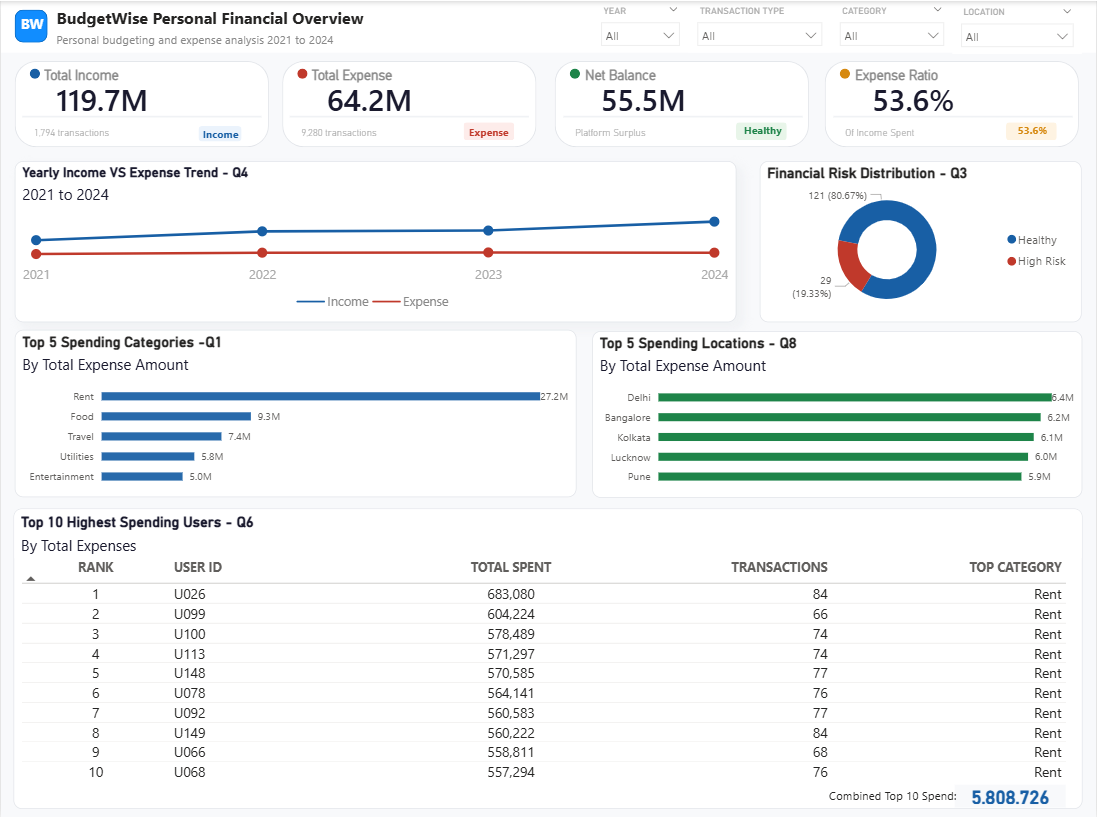

The dashboard page shown, as its layout file describes it:
{"tool":"powerbi","page":{"name":"BudgetWise Finance Analysis","canvas":[1270,950],"ordinal":0},"visuals":[{"type":"shape","box":[0,0,1439,60],"z":0,"group":"g6"},{"type":"lineChart","title":"Yearly Income VS Expense Trend - Q4","fields":{"Category":["public budgetwise_finance.year"],"Y":["public budgetwise_finance.Yearly Income","public budgetwise_finance.Yearly Expense"]},"box":[15.7,185.4,837.2,186.9],"z":0},{"type":"textbox","box":[60,2,388,37],"z":1000,"group":"g6"},{"type":"shape","box":[16,10,38,38],"z":1000,"group":"g7"},{"type":"shape","box":[16,69,295,100],"z":1000,"group":"g2"},{"type":"shape","box":[326,69,295,100],"z":1000,"group":"g3"},{"type":"shape","box":[956,69,295,100],"z":1000,"group":"g5"},{"type":"shape","box":[642,70,295,100],"z":1000,"group":"g4"},{"type":"donutChart","title":"Financial Risk Distribution - Q3","fields":{"Category":["Q3_Financial_Risk.financial_status"],"Y":["CountNonNull(Q3_Financial_Risk.user_id)"]},"box":[881.2,185.4,373.8,186.9],"z":1000},{"type":"textbox","box":[16,10,40,39],"z":2000,"group":"g7"},{"type":"textbox","box":[60,31,353,29],"z":2000,"group":"g6"},{"type":"clusteredBarChart","title":"Top 5 Spending Categories -Q1","fields":{"Category":["public budgetwise_finance.category"],"Y":["Sum(public budgetwise_finance.amount)"]},"box":[15.7,381.7,651.9,194.8],"z":2000},{"type":"slicer","title":"Year Slicer","fields":{"Values":["public budgetwise_finance.year"]},"box":[686.4,0,111.5,59.7],"z":3000,"group":"g6"},{"type":"card","title":"Total Income","fields":{"Values":["Q2_Income_vs_Expense.Total Income"]},"box":[45,75,145,59],"z":3000,"group":"g2"},{"type":"card","title":"Total Expense","fields":{"Values":["Q2_Income_vs_Expense.Total Expense"]},"box":[355,75,145,59],"z":3000,"group":"g3"},{"type":"card","title":"Expense Ratio","fields":{"Values":["Q2_Income_vs_Expense.Expense Ratio"]},"box":[986,75,145,59],"z":3000,"group":"g5"},{"type":"card","title":"Net Balance","fields":{"Values":["Q2_Income_vs_Expense.Net Balance"]},"box":[672,76,145,59],"z":3000,"group":"g4"},{"type":"clusteredBarChart","title":"Top 5 Spending Locations - Q8","fields":{"Category":["public budgetwise_finance.location"],"Y":["Sum(public budgetwise_finance.amount)"]},"box":[686.4,383.3,568.6,193.2],"z":3000},{"type":"slicer","title":"Type Slicer","fields":{"Values":["public budgetwise_finance.transaction_type"]},"box":[798,0,164.9,59.7],"z":4000,"group":"g6"},{"type":"group","id":"g1","title":"Group 2","box":[14.1,589,1240.9,362.1],"z":4000},{"type":"slicer","title":"Location Slicer","fields":{"Values":["public budgetwise_finance.location"]},"box":[1104.3,1.6,150.8,59.7],"z":5000,"group":"g6"},{"type":"group","id":"g2","title":"Group 3","box":[16,69,295,102],"z":5000},{"type":"shape","box":[24.6,128.8,277.8,10.3],"z":5000,"group":"g2"},{"type":"shape","box":[334.6,128.8,277.8,10.3],"z":5000,"group":"g3"},{"type":"shape","box":[965.6,128.8,277.8,10.3],"z":5000,"group":"g5"},{"type":"shape","box":[651.6,129.8,277.8,10.3],"z":5000,"group":"g4"},{"type":"group","id":"g3","title":"Group 3","box":[326,69,295,100],"z":6000},{"type":"group","id":"g4","title":"Group 3","box":[642,70,295,100],"z":7000},{"type":"textbox","box":[33.2,137.4,133,28.2],"z":7000,"group":"g2"},{"type":"textbox","box":[343.2,137.4,133,28.2],"z":7000,"group":"g3"},{"type":"textbox","box":[974.2,137.4,133,28.2],"z":7000,"group":"g5"},{"type":"textbox","box":[660.2,138.4,133,28.2],"z":7000,"group":"g4"},{"type":"group","id":"g5","title":"Group 3","box":[956,69,295,100],"z":8000},{"type":"group","id":"g6","title":"Group 4","box":[0,0,1439,61.3],"z":9000},{"type":"slicer","fields":{"Values":["public budgetwise_finance.category"]},"box":[962.9,0,141.4,61.3],"z":12000,"group":"g6"},{"type":"group","id":"g7","title":"Group 1","box":[16,10,40,39],"z":13000,"group":"g6"},{"type":"tableEx","title":"Top 10 Highest Spending Users - Q6","fields":{"Values":["public budgetwise_finance.Top 10 Rank","public budgetwise_finance.user_id","public budgetwise_finance.Total Spent Per User","public budgetwise_finance.Total Transactions","public budgetwise_finance.Top Category"]},"box":[14.1,589,1240.9,348.7],"z":17000,"group":"g1"},{"type":"card","fields":{"Values":["public budgetwise_finance.Top 10 Combined Total"]},"box":[1107.1,909.4,128.8,26.7],"z":18000,"group":"g1"},{"type":"textbox","box":[955.9,891.1,166.1,59.9],"z":18500,"group":"g1"},{"type":"shape","box":[33,77,12,12],"z":20000,"group":"g2"},{"type":"shape","box":[343,77,12,12],"z":20000,"group":"g3"},{"type":"shape","box":[974,77,12,12],"z":20000,"group":"g5"},{"type":"shape","box":[660,78,12,12],"z":20000,"group":"g4"},{"type":"shape","box":[536,140,59,21],"z":21000,"group":"g3"},{"type":"shape","box":[1167,140,59,21],"z":21000,"group":"g5"},{"type":"shape","box":[853,141,59,21],"z":21000,"group":"g4"},{"type":"shape","box":[229,145,50,18],"z":21000,"group":"g2"},{"type":"textbox","box":[1175,135,54,32],"z":22000,"group":"g5"},{"type":"textbox","box":[856,136,54,32],"z":22000,"group":"g4"},{"type":"textbox","box":[538,137,57,32],"z":22000,"group":"g3"},{"type":"textbox","box":[229,139,55,32],"z":22000,"group":"g2"}]}

Visuals, with their boxes in screenshot pixels (x1, y1, x2, y2), scaled from the page's 1270x950 canvas onto the 1097x817 screenshot:
shape: [0,0,1096,52]
"Yearly Income VS Expense Trend - Q4" lineChart: [14,159,737,320]
textbox: [52,2,387,34]
shape: [14,9,47,41]
shape: [14,59,269,145]
shape: [282,59,536,145]
shape: [826,59,1081,145]
shape: [555,60,809,146]
"Financial Risk Distribution - Q3" donutChart: [761,159,1084,320]
textbox: [14,9,48,42]
textbox: [52,27,357,52]
"Top 5 Spending Categories -Q1" clusteredBarChart: [14,328,577,496]
"Year Slicer" slicer: [593,0,689,51]
"Total Income" card: [39,64,164,115]
"Total Expense" card: [307,64,432,115]
"Expense Ratio" card: [852,64,977,115]
"Net Balance" card: [580,65,706,116]
"Top 5 Spending Locations - Q8" clusteredBarChart: [593,330,1084,496]
"Type Slicer" slicer: [689,0,832,51]
"Group 2" group: [12,507,1084,816]
"Location Slicer" slicer: [954,1,1084,53]
"Group 3" group: [14,59,269,147]
shape: [21,111,261,120]
shape: [289,111,529,120]
shape: [834,111,1074,120]
shape: [563,112,803,120]
"Group 3" group: [282,59,536,145]
"Group 3" group: [555,60,809,146]
textbox: [29,118,144,142]
textbox: [296,118,411,142]
textbox: [841,118,956,142]
textbox: [570,119,685,143]
"Group 3" group: [826,59,1081,145]
"Group 4" group: [0,0,1096,53]
slicer - public budgetwise_finance.category: [832,0,954,53]
"Group 1" group: [14,9,48,42]
"Top 10 Highest Spending Users - Q6" tableEx: [12,507,1084,806]
card - public budgetwise_finance.Top 10 Combined Total: [956,782,1068,805]
textbox: [826,766,969,816]
shape: [29,66,39,77]
shape: [296,66,307,77]
shape: [841,66,852,77]
shape: [570,67,580,77]
shape: [463,120,514,138]
shape: [1008,120,1059,138]
shape: [737,121,788,139]
shape: [198,125,241,140]
textbox: [1015,116,1062,144]
textbox: [739,117,786,144]
textbox: [465,118,514,145]
textbox: [198,120,245,147]
